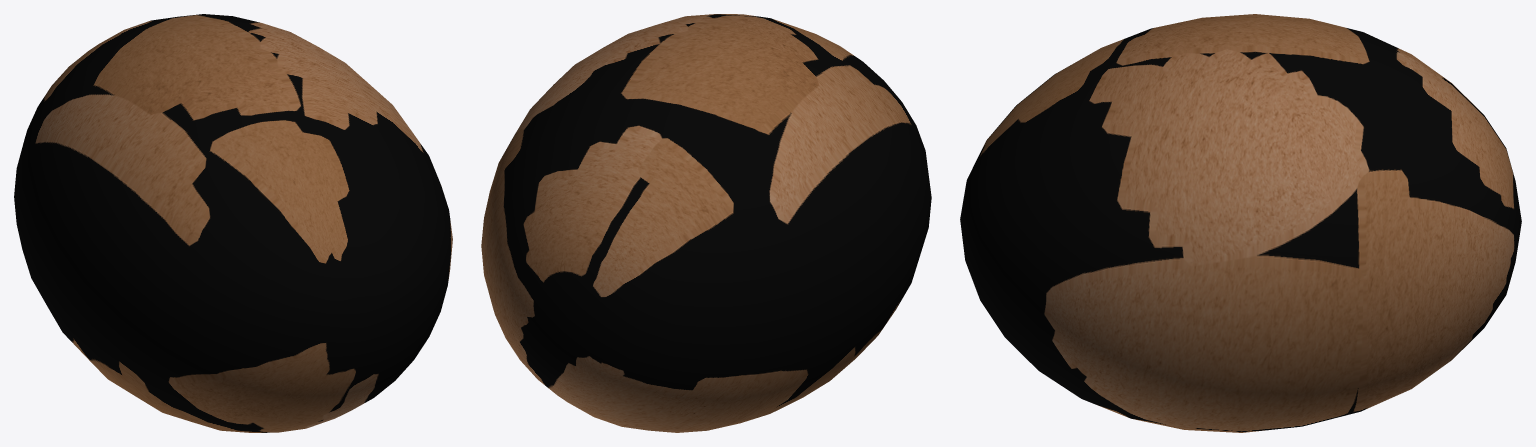
3 views of the same model, side by side, from view 1: azimuth 30°, elevation 25°; view 2: azimuth 150°, elevation 25°; view 3: azimuth 270°, elevation 25° (orthographic). The views are drawn at different scales.
Bounding box in the file's own units: 0.76 × 0.7463 × 1.
